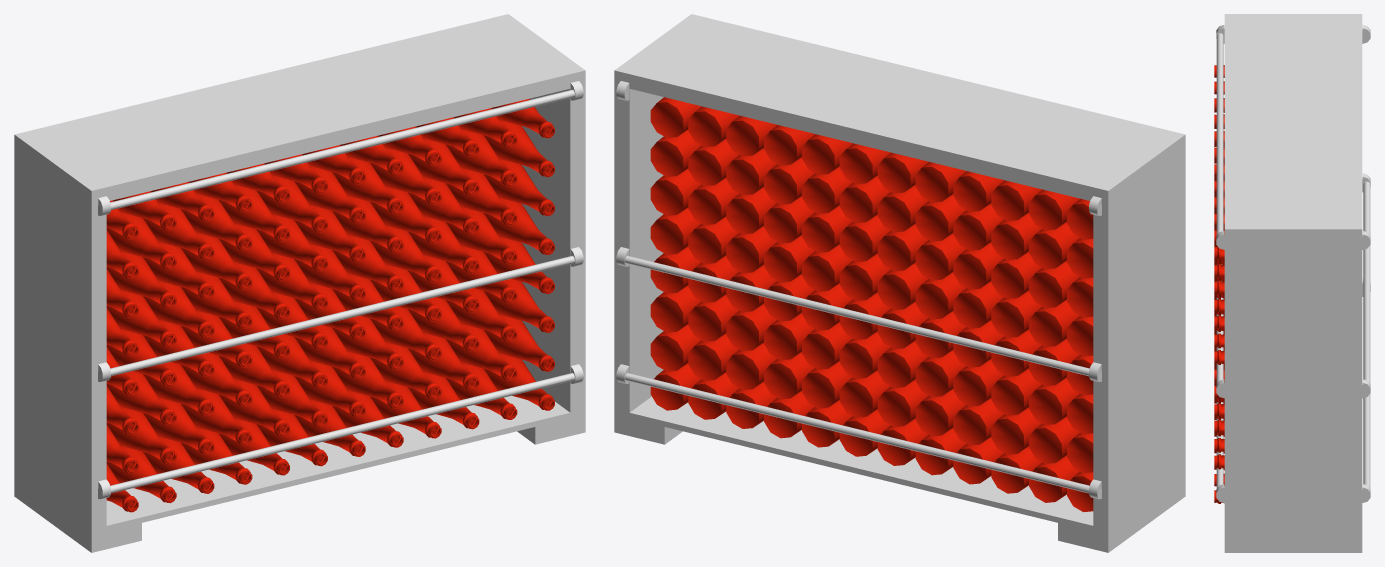
File: 3D_Pallette.fbx
3 renders of one model, left to right at view 1: azimuth 30°, elevation 25°; view 2: azimuth 150°, elevation 25°; view 3: azimuth 270°, elevation 25°, orthographic. The views are drawn at different scales.
Visible parts, largest first — view 1: Pallette; view 2: Pallette; view 3: Pallette.
Part boxes in pixels (x1,y1,x2,y2): Pallette: (14,14,585,552); Pallette: (614,14,1185,552); Pallette: (1214,14,1370,552).
Size of the model in its own units: 1.48 by 1.04 by 0.4539.
